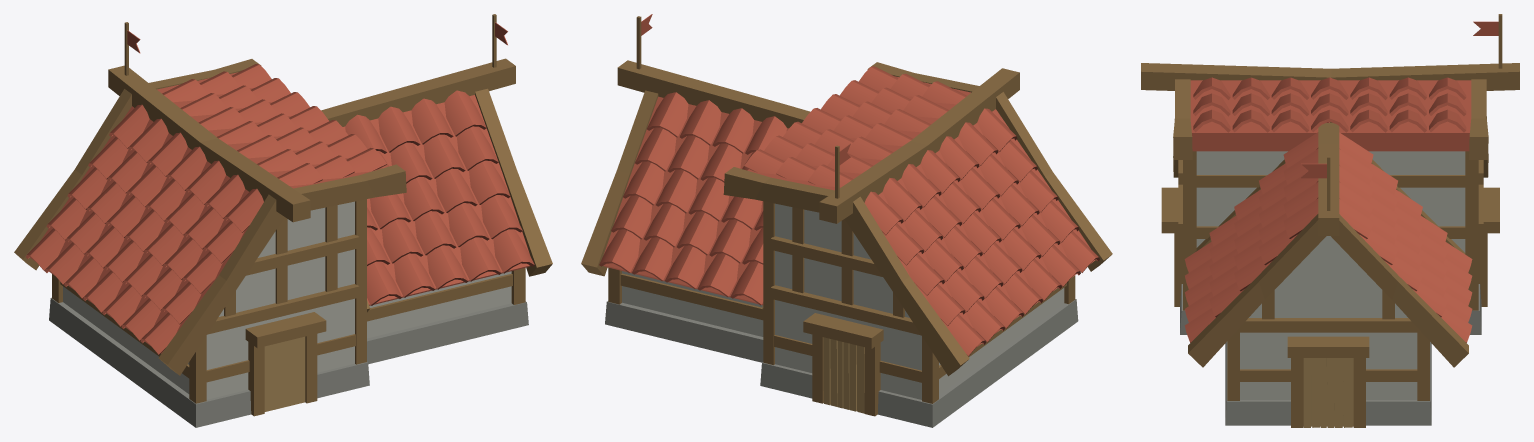
File: house_town_l4.glb
3 renders of one model, left to right at view 1: azimuth 30°, elevation 25°; view 2: azimuth 150°, elevation 25°; view 3: azimuth 270°, elevation 25°, orthographic. The views are drawn at different scales.
Visible parts, largest first — view 1: Houses_SecondAge_2_Level2; view 2: Houses_SecondAge_2_Level2; view 3: Houses_SecondAge_2_Level2.
Part boxes in pixels (left/top/right/bottom): Houses_SecondAge_2_Level2: left=14, top=14, right=552, bottom=427; Houses_SecondAge_2_Level2: left=581, top=14, right=1112, bottom=427; Houses_SecondAge_2_Level2: left=1141, top=14, right=1519, bottom=427.
Size of the model in its own units: 1.55 by 0.9455 by 1.17.
